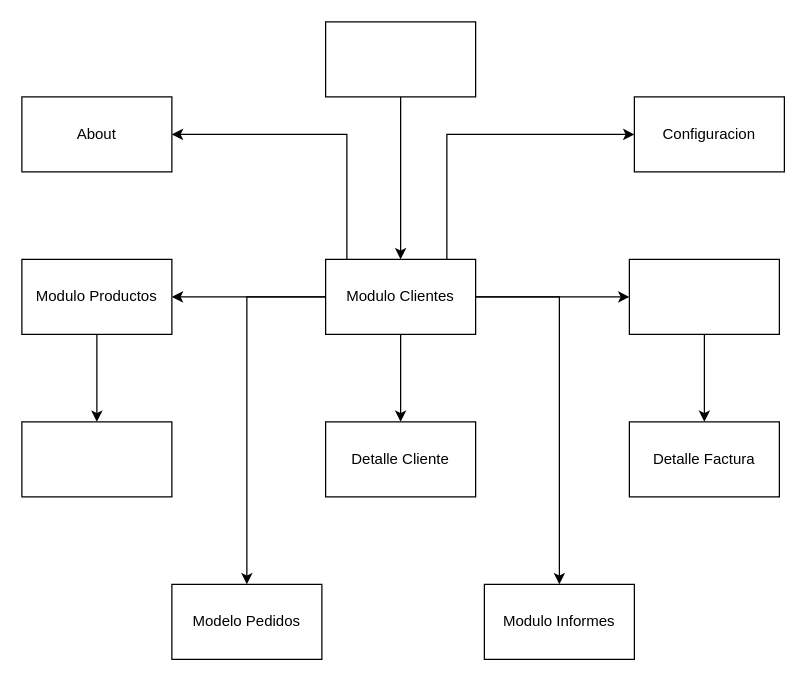
This 806x681 diagram has some shape labels left out. Here are the shapes that lost their labels. From the top down, the centre of each, then its label:
At [400,59]: "Presentacion".
At [703,296]: "Modulo Facturas".
At [96,459]: "Detalle Producto".
